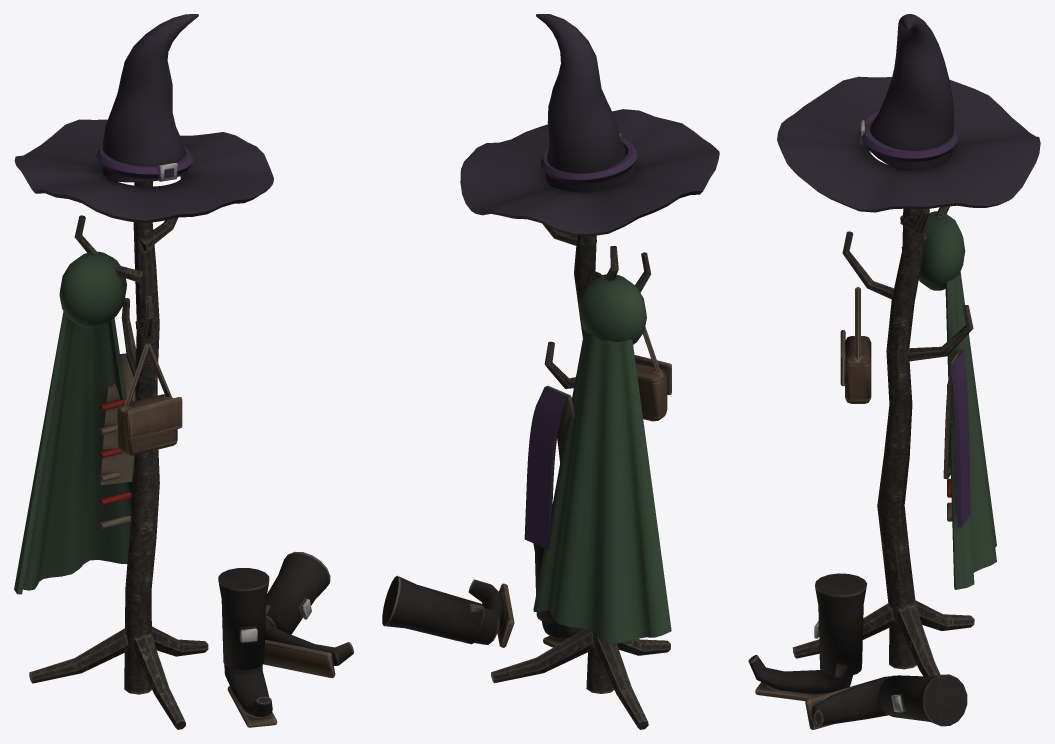
Rendered from WitchHatStand.fbx.
3 renders of one model, left to right at view 1: azimuth 30°, elevation 25°; view 2: azimuth 150°, elevation 25°; view 3: azimuth 270°, elevation 25°, orthographic.
Parts seen in each view (by area): view 1: WitchHatStand; view 2: WitchHatStand; view 3: WitchHatStand.
Boxes of the visible parts, <box> form: WitchHatStand: <box>14,14,353,729</box>; WitchHatStand: <box>382,14,719,729</box>; WitchHatStand: <box>748,14,1040,729</box>.
Size of the model in its own units: 409 by 840 by 333.
